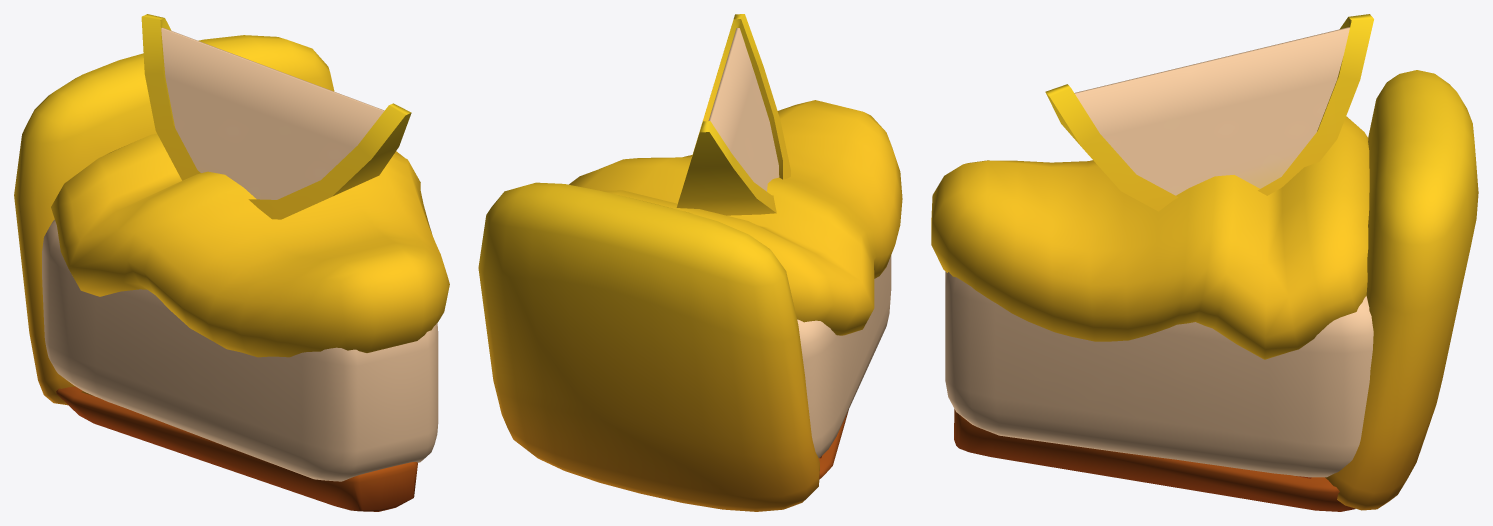
Rendered from SM_Yellow.fbx.
3 views of the same model, side by side, from view 1: azimuth 30°, elevation 25°; view 2: azimuth 150°, elevation 25°; view 3: azimuth 270°, elevation 25° (orthographic). The views are drawn at different scales.
Parts seen in each view (by area): view 1: Cheesecake.002, Cheesecake.003, Cylinder; view 2: Cheesecake.002, Cylinder, Cheesecake.003; view 3: Cheesecake.002, Cheesecake.003, Cylinder.
Part boxes in pixels (x1,y1,x2,y2): Cheesecake.002: (14,35,449,511); Cheesecake.003: (42,219,438,481); Cylinder: (141,14,411,219); Cheesecake.002: (478,100,902,511); Cylinder: (676,14,790,215); Cheesecake.003: (797,255,891,457); Cheesecake.002: (931,70,1478,511); Cheesecake.003: (945,271,1373,477); Cylinder: (1045,14,1373,211).
Bounding box in the file's own units: 0.5082 × 0.5211 × 0.633.
1 material, 1 textured.
